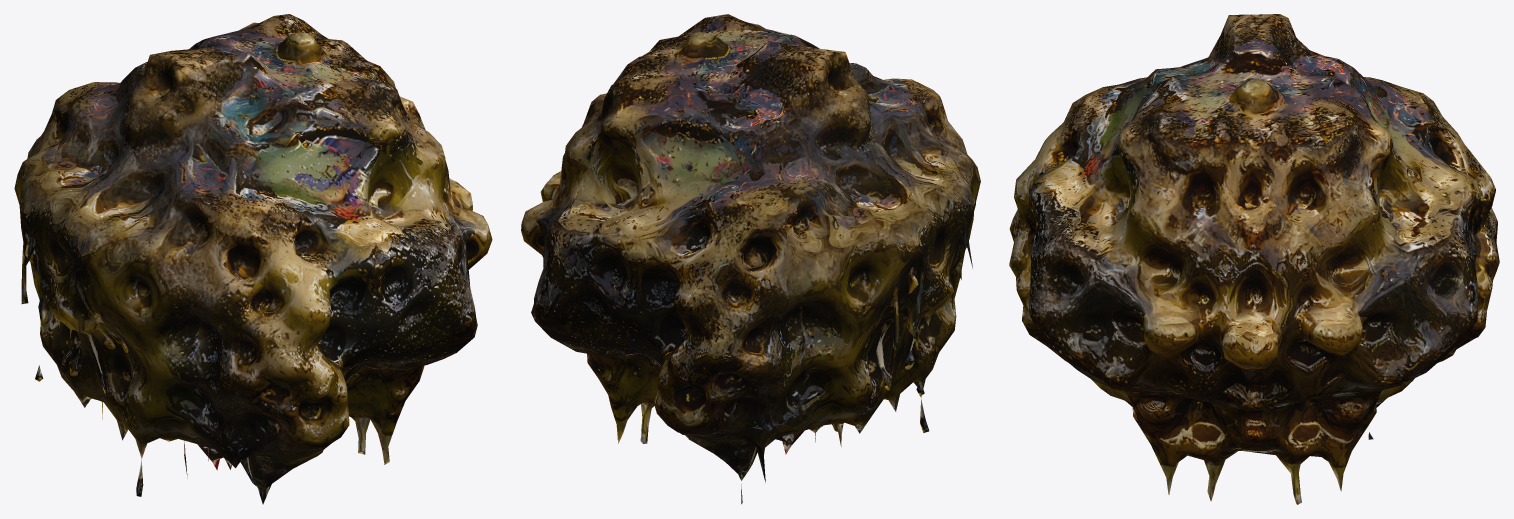
Rendered from sample_pcb.fbx.
The picture shows the model from 3 angles, left to right: view 1: azimuth 30°, elevation 25°; view 2: azimuth 150°, elevation 25°; view 3: azimuth 270°, elevation 25°; orthographic projection. The views are drawn at different scales.
Visible parts, largest first — view 1: input; view 2: input; view 3: input.
Boxes of the visible parts, x1,y1,x2,y2 form: input: (14,14,492,504); input: (521,14,980,504); input: (1009,14,1499,504).
Size of the model in its own units: 94.98 by 92.26 by 99.45.
Materials: 1 (1 with a texture image).
